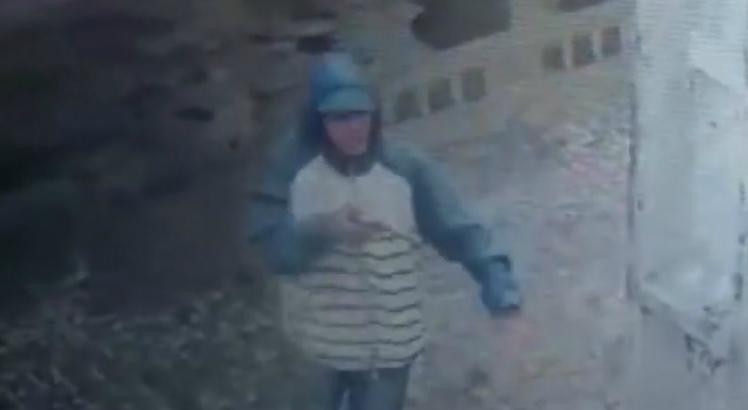Humano: (242, 56, 529, 410)
